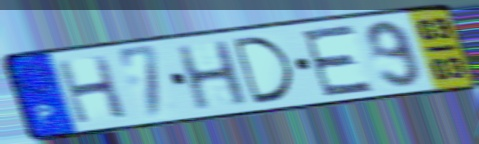7: (114, 41, 165, 124)
9: (364, 18, 424, 90)
D: (229, 33, 298, 107)
E: (299, 21, 377, 99)
H: (173, 37, 252, 112), (52, 53, 131, 127)
